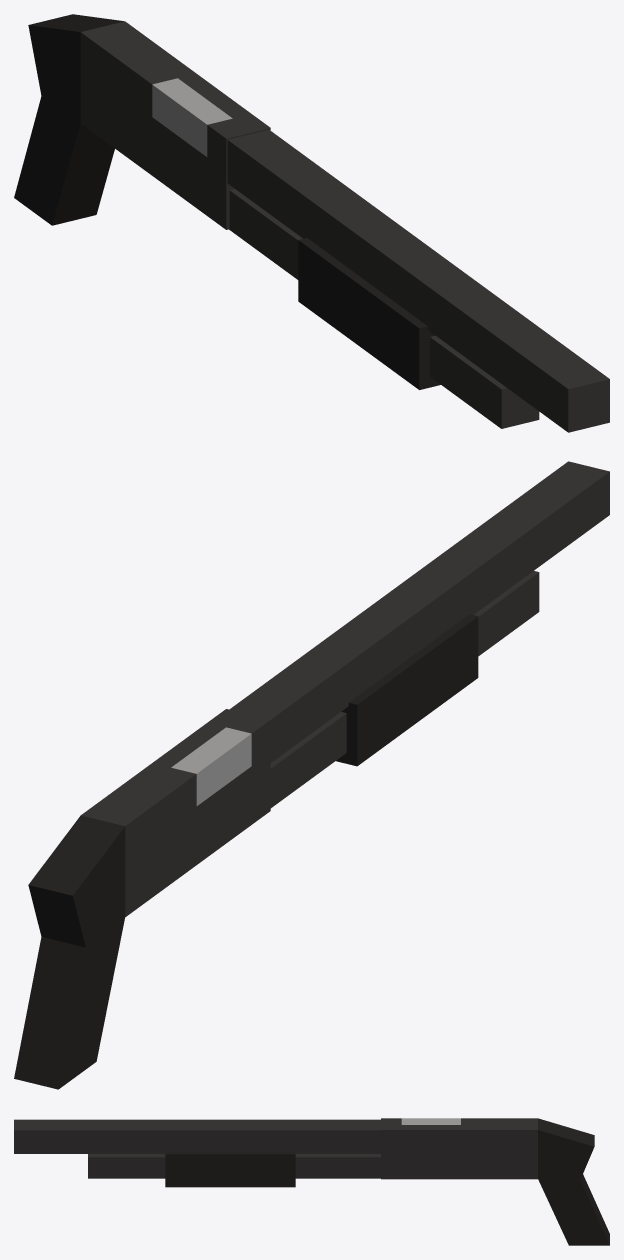
File: SGstubby.FBX
3 renders of one model, top to bottom at view 1: azimuth 30°, elevation 25°; view 2: azimuth 150°, elevation 25°; view 3: azimuth 270°, elevation 25°, orthographic. The views are drawn at different scales.
Parts seen in each view (by area): view 1: PumpSGstubby, PumpSGstubbyPunp; view 2: PumpSGstubby, PumpSGstubbyPunp; view 3: PumpSGstubby, PumpSGstubbyPunp.
Boxes of the visible parts, x1=… form: PumpSGstubby: x1=14, y1=14, x2=609, y2=432; PumpSGstubbyPunp: x1=298, y1=238, x2=440, y2=389; PumpSGstubby: x1=14, y1=461, x2=609, y2=1089; PumpSGstubbyPunp: x1=336, y1=614, x2=478, y2=766; PumpSGstubby: x1=14, y1=1118, x2=609, y2=1245; PumpSGstubbyPunp: x1=165, y1=1152, x2=295, y2=1187.
Bounding box in the file's own units: 9.32 × 151 × 32.41.
